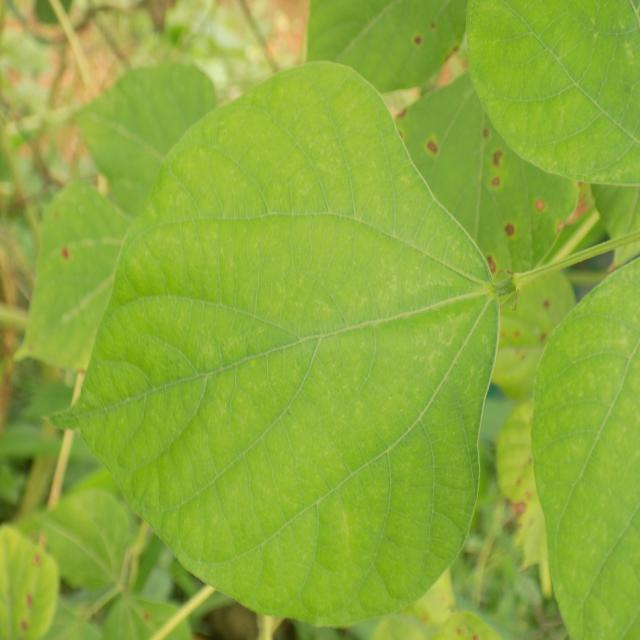Dolicos bean_healthy: (45, 55, 496, 632), (72, 60, 232, 206), (27, 486, 138, 586)
